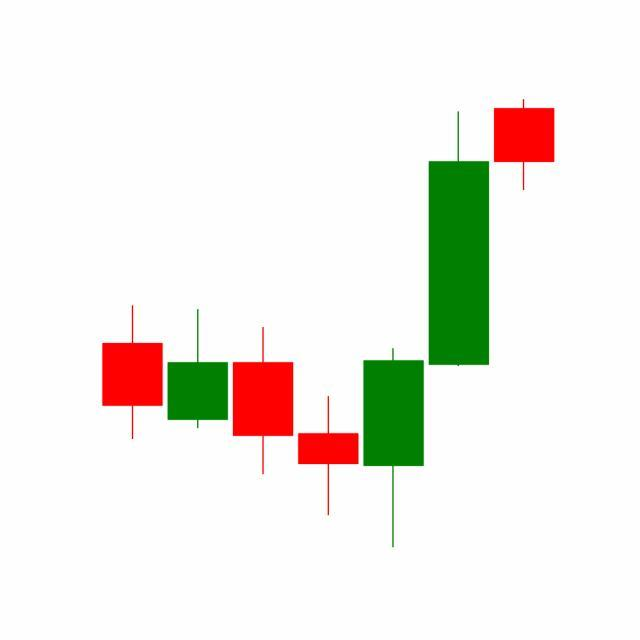Three Outside Up-Down: (295, 107, 492, 548)
